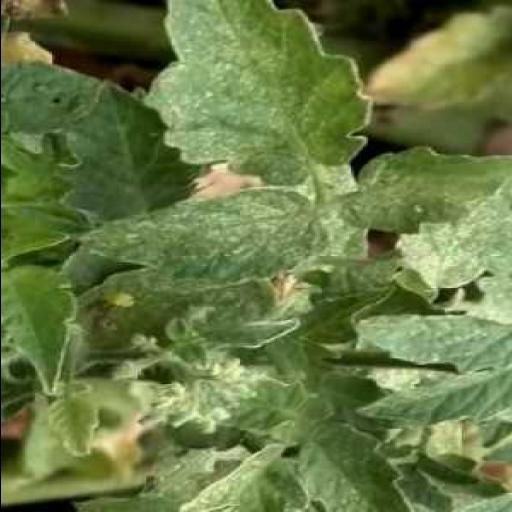disease_tomato: (142, 0, 368, 188), (70, 186, 328, 284)
